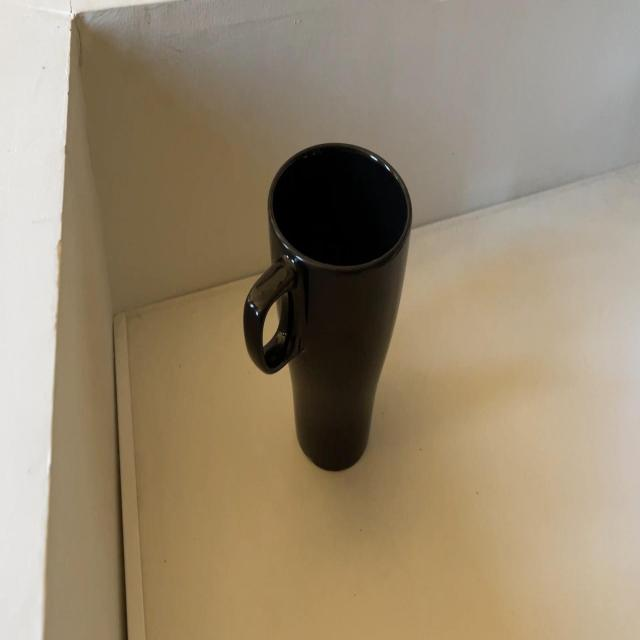cup: (240, 138, 414, 480)
